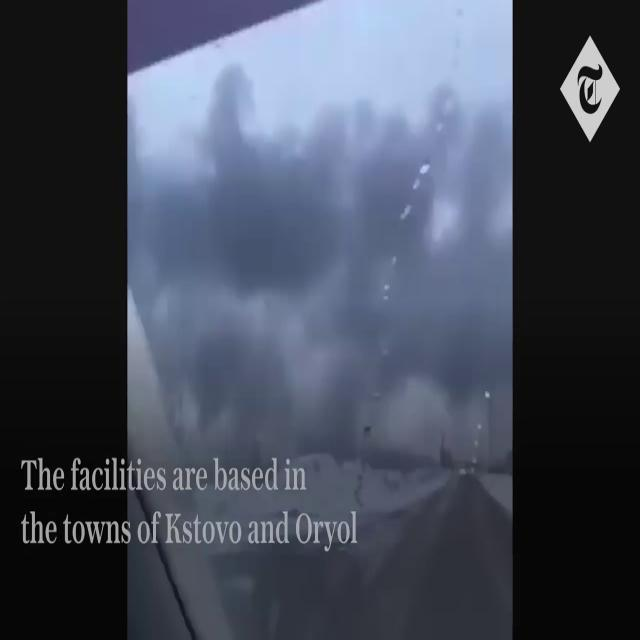Smoke: (133, 82, 506, 492)
